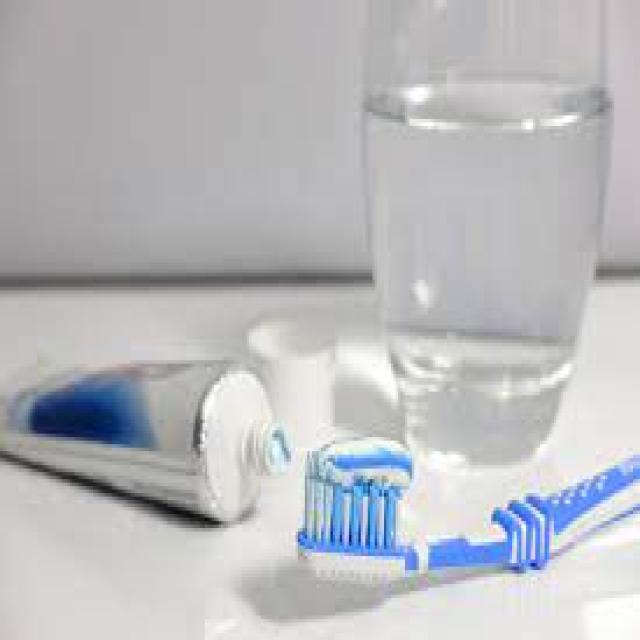toothpaste: (1, 310, 304, 536)
